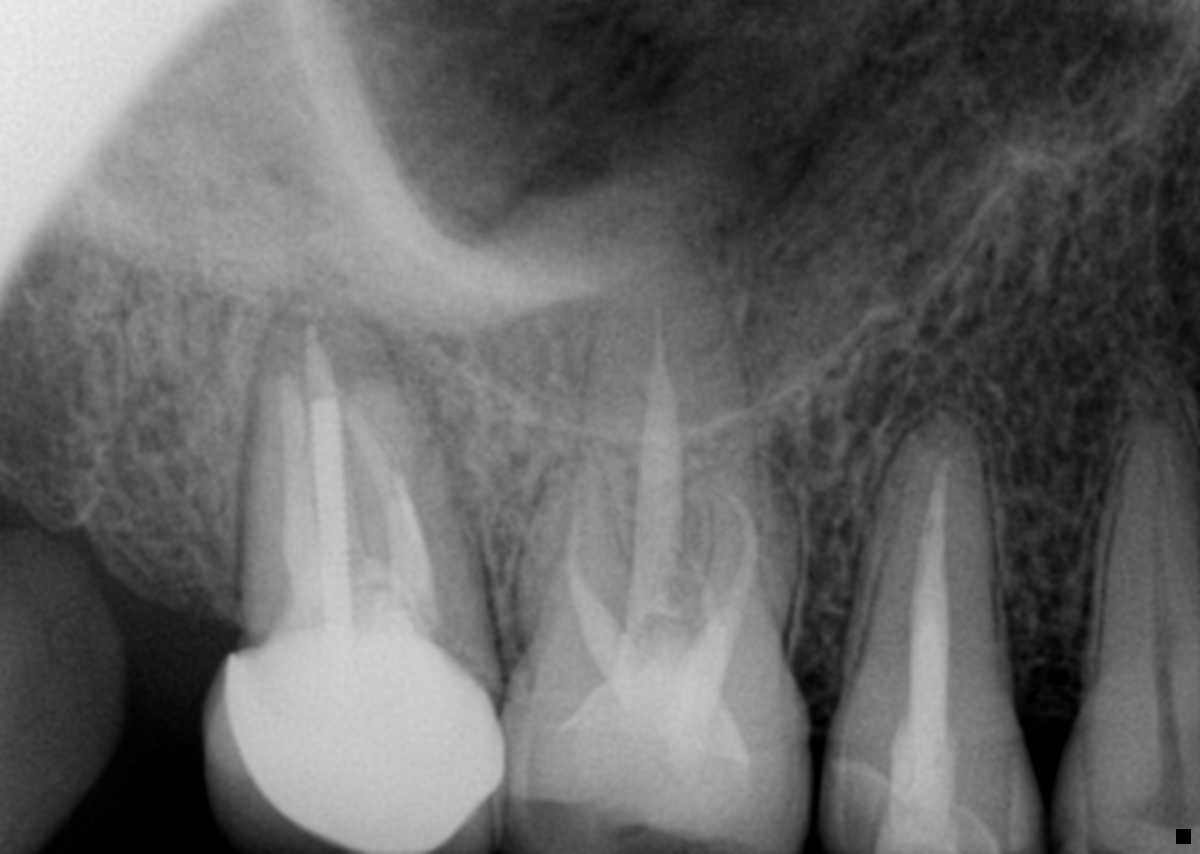Apical Lesion: (386, 333, 463, 448)
Main Canal: (1149, 436, 1171, 676)
Main Root: (831, 405, 1017, 718), (1080, 359, 1200, 726)
Mesial Root: (678, 448, 806, 668)
Palatal Root: (530, 211, 778, 670), (234, 293, 443, 645)
Root Canal Filling: (566, 513, 679, 723), (346, 402, 437, 636), (673, 487, 760, 725), (626, 298, 685, 637), (303, 332, 357, 641), (271, 376, 324, 647), (904, 458, 952, 733)
